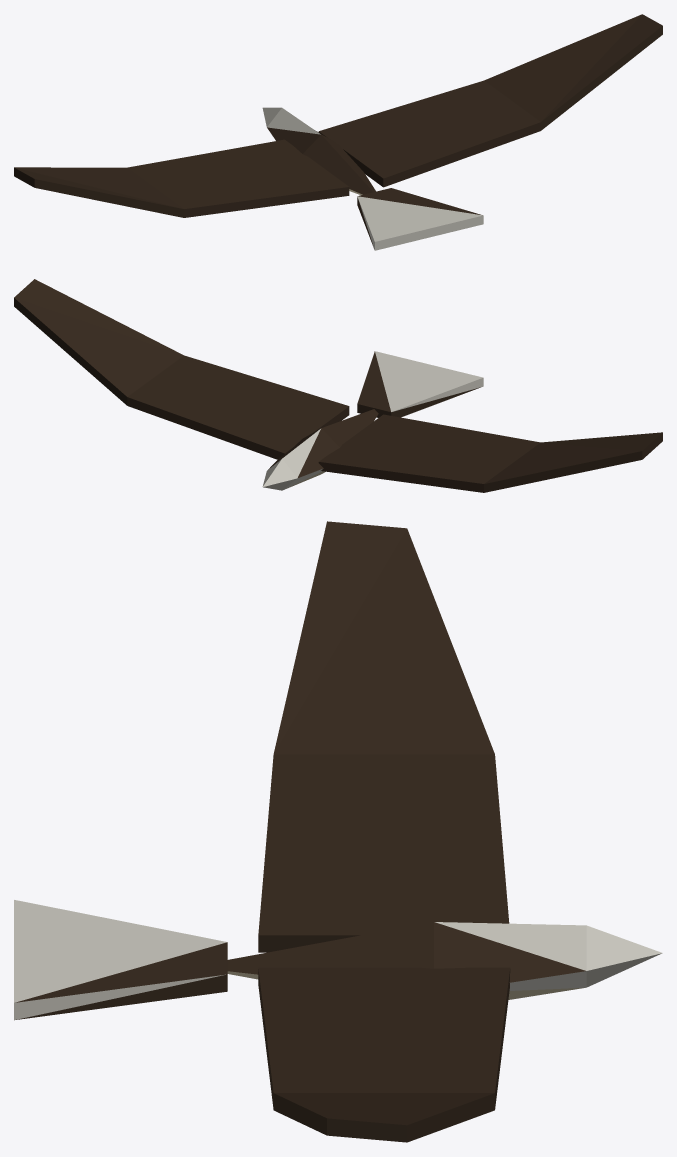
The model's file is eagle.glb.
3 renders of one model, top to bottom at view 1: azimuth 30°, elevation 25°; view 2: azimuth 150°, elevation 25°; view 3: azimuth 270°, elevation 25°, orthographic. The views are drawn at different scales.
Parts seen in each view (by area): view 1: eagle; view 2: eagle; view 3: eagle.
Boxes of the visible parts, bbox=[...] form: eagle: bbox=[14, 14, 662, 250]; eagle: bbox=[14, 279, 662, 492]; eagle: bbox=[14, 521, 662, 1142].
Bounding box in the file's own units: 3.7 × 0.555 × 1.7.
